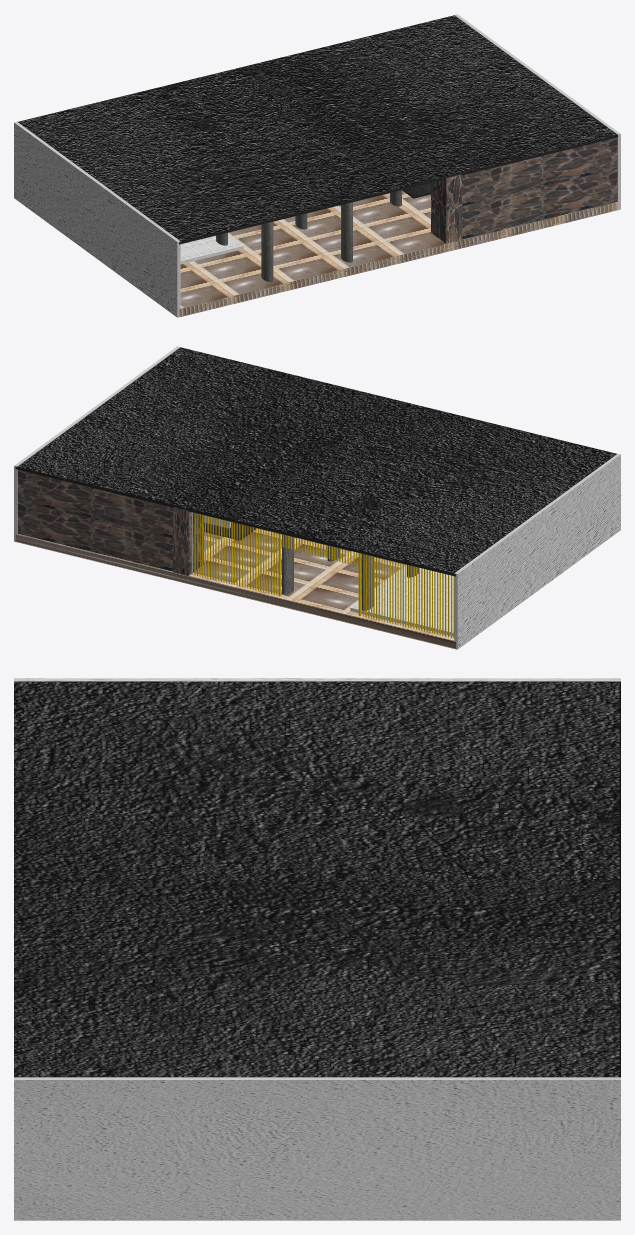
The model's file is conjunto_norte.obj.
The picture shows the model from 3 angles, top to bottom: view 1: azimuth 30°, elevation 25°; view 2: azimuth 150°, elevation 25°; view 3: azimuth 270°, elevation 25°; orthographic projection. The views are drawn at different scales.
Visible parts, largest first — view 1: Cube.007, piso, Cube.010, Cube.004, Cube.002, Cube.008, Cube.009, Cylinder.009, Cylinder.003; view 2: Cube.007, Cube.010, piso, Cube.003, Cube.008, Cube.001, Cube.009, Cylinder, Cylinder.006, Cube.005; view 3: Cube.007, Cube.009, Cube.010.
Part boxes in pixels (x1=…): Cube.007: x1=18, y1=15, x2=617, y2=244; piso: x1=179, y1=190, x2=617, y2=317; Cube.010: x1=14, y1=121, x2=180, y2=317; Cube.004: x1=462, y1=138, x2=617, y2=239; Cube.002: x1=431, y1=174, x2=461, y2=243; Cube.008: x1=180, y1=234, x2=243, y2=264; Cube.009: x1=454, y1=14, x2=620, y2=210; Cylinder.009: x1=261, y1=222, x2=273, y2=282; Cylinder.003: x1=341, y1=202, x2=352, y2=262; Cube.007: x1=15, y1=347, x2=616, y2=576; Cube.010: x1=454, y1=453, x2=620, y2=649; piso: x1=15, y1=528, x2=455, y2=649; Cube.003: x1=17, y1=470, x2=172, y2=571; Cube.008: x1=350, y1=566, x2=453, y2=635; Cube.001: x1=173, y1=506, x2=203, y2=575; Cube.009: x1=14, y1=346, x2=180, y2=541; Cylinder: x1=282, y1=534, x2=293, y2=594; Cylinder.006: x1=361, y1=554, x2=373, y2=610; Cube.005: x1=204, y1=522, x2=256, y2=540; Cube.007: x1=14, y1=681, x2=620, y2=1077; Cube.009: x1=14, y1=1077, x2=620, y2=1220; Cube.010: x1=14, y1=678, x2=620, y2=681.
Bounding box in the file's own units: 56.4 × 9.2 × 36.
